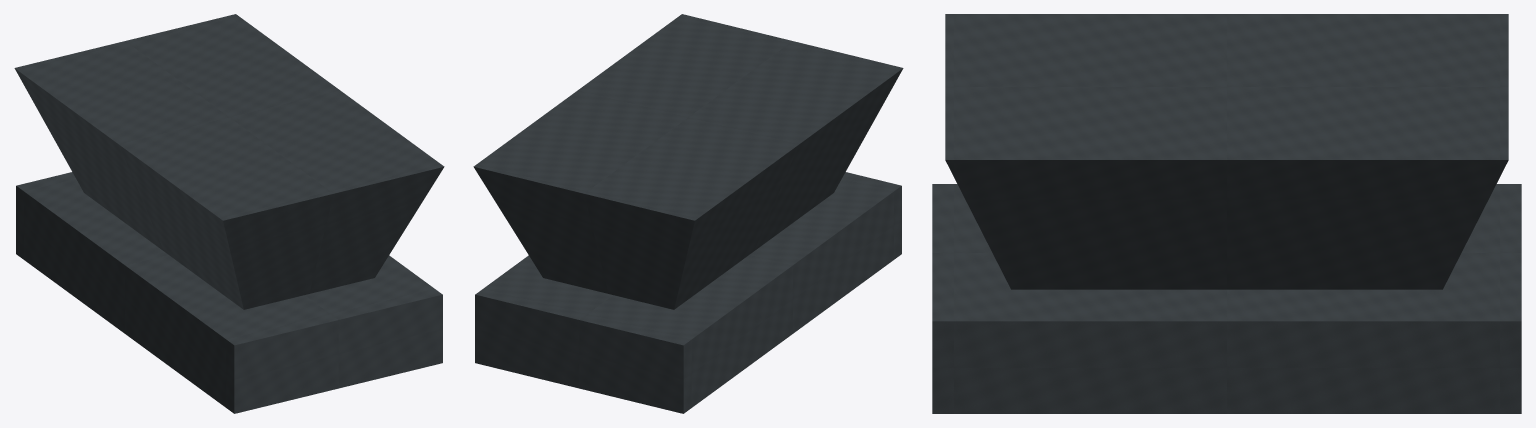
The model's file is Minecart_Collision.glb.
3 renders of one model, left to right at view 1: azimuth 30°, elevation 25°; view 2: azimuth 150°, elevation 25°; view 3: azimuth 270°, elevation 25°, orthographic. The views are drawn at different scales.
Parts seen in each view (by area): view 1: COL_Minecart_Body, COL_Minecart_Underframe; view 2: COL_Minecart_Body, COL_Minecart_Underframe; view 3: COL_Minecart_Body, COL_Minecart_Underframe.
Part boxes in pixels (x1,y1,x2,y2): COL_Minecart_Body: [14, 14, 444, 309]; COL_Minecart_Underframe: [16, 172, 442, 413]; COL_Minecart_Body: [473, 14, 903, 309]; COL_Minecart_Underframe: [475, 172, 901, 413]; COL_Minecart_Body: [945, 14, 1508, 289]; COL_Minecart_Underframe: [932, 184, 1521, 413].
Bounding box in the file's own units: 0.744 × 0.614 × 1.27.
Materials: 1 (1 with a texture image).
